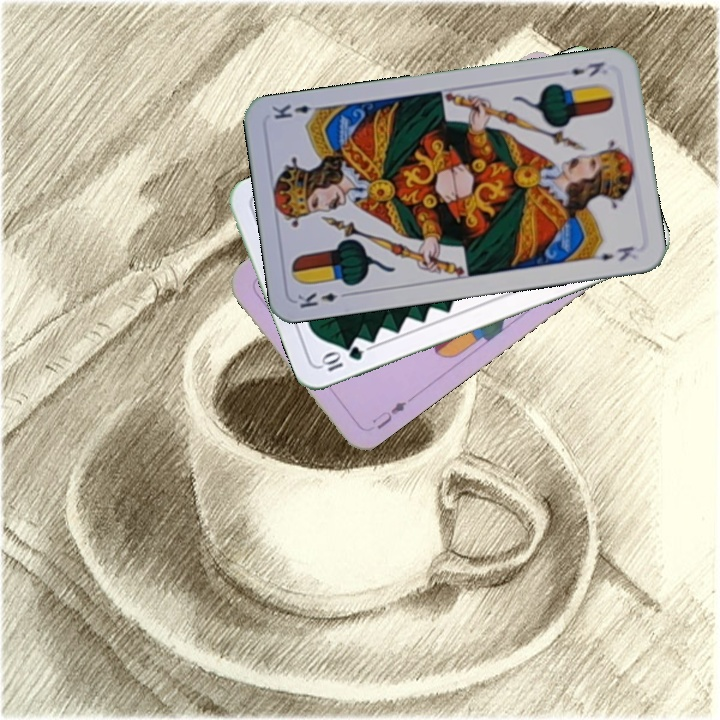EK: (293, 288, 353, 311), (568, 57, 607, 79)
EU: (368, 397, 409, 432)
G10: (317, 342, 366, 374)
